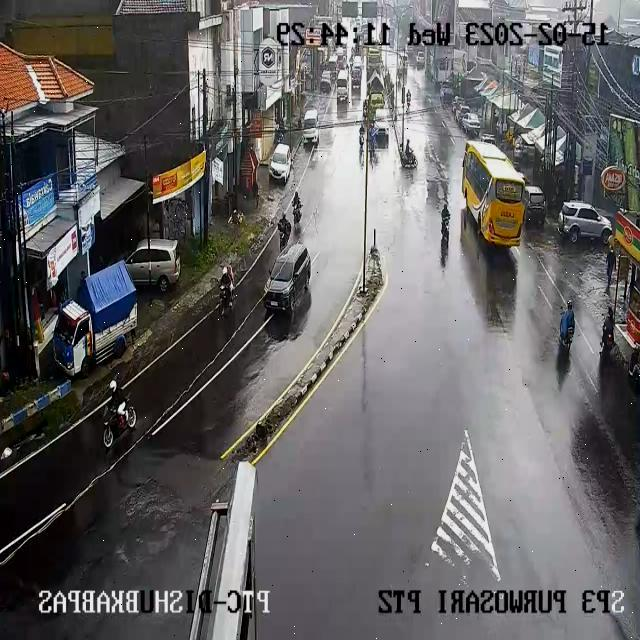Bus: (460, 139, 526, 251)
Car: (263, 243, 315, 320), (126, 239, 182, 293), (558, 201, 613, 244), (522, 187, 547, 227), (269, 144, 293, 183), (303, 109, 319, 143), (372, 114, 389, 146), (461, 112, 481, 136), (336, 70, 349, 100), (455, 105, 471, 124), (351, 62, 362, 88), (440, 85, 454, 104), (320, 74, 332, 94), (328, 54, 338, 72), (399, 54, 408, 73), (353, 56, 363, 72), (416, 51, 425, 66), (336, 47, 345, 59)
Motorbike: (106, 379, 130, 438), (557, 298, 577, 358), (221, 264, 237, 308), (600, 308, 614, 354), (278, 215, 292, 247), (628, 348, 640, 385), (441, 202, 450, 244), (292, 192, 303, 216), (405, 140, 413, 160), (359, 125, 365, 146), (406, 90, 412, 105)
Truck: (62, 266, 138, 381), (369, 70, 384, 109), (367, 48, 385, 69)
